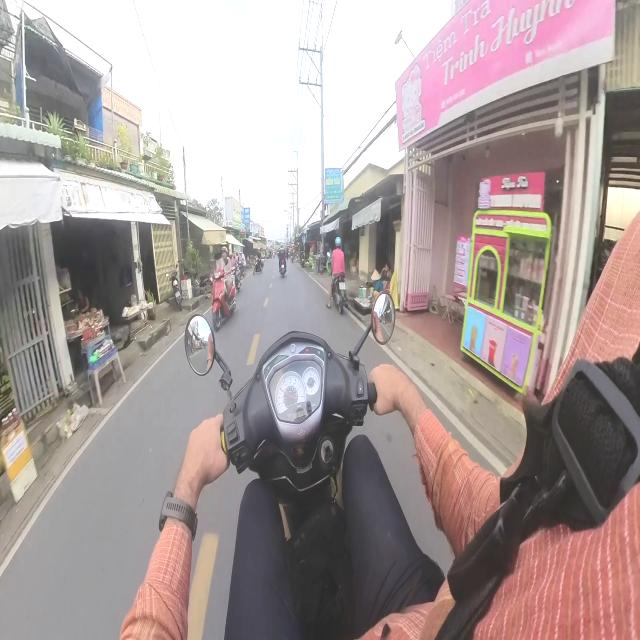motorcycle: (213, 294, 394, 638), (212, 268, 236, 331), (166, 267, 182, 311), (333, 273, 347, 314), (254, 258, 263, 274), (279, 257, 286, 277)
